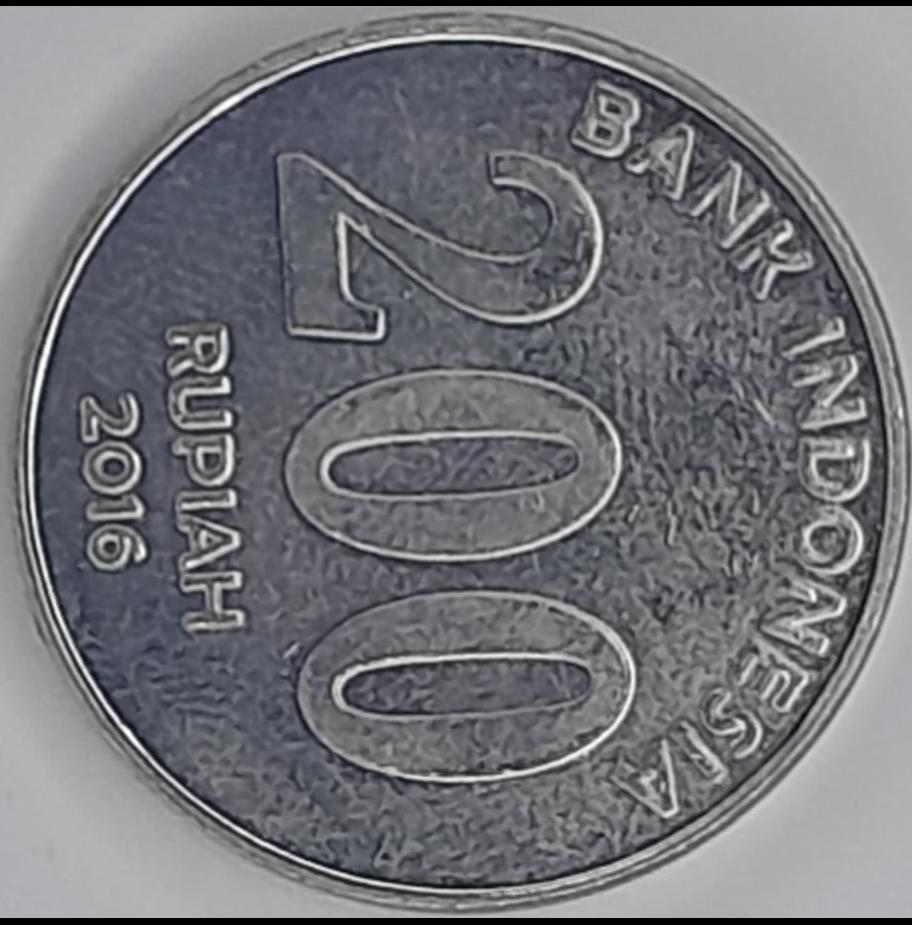coin_200_e2016: (0, 16, 912, 925)
